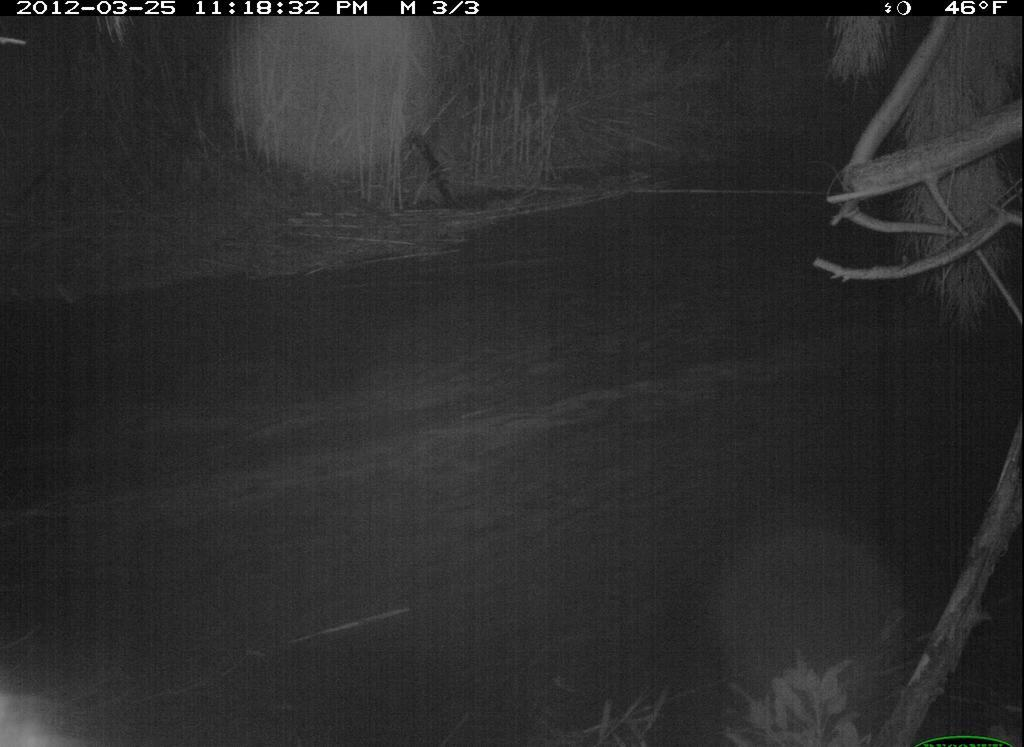raccoon: (1, 665, 118, 742)
